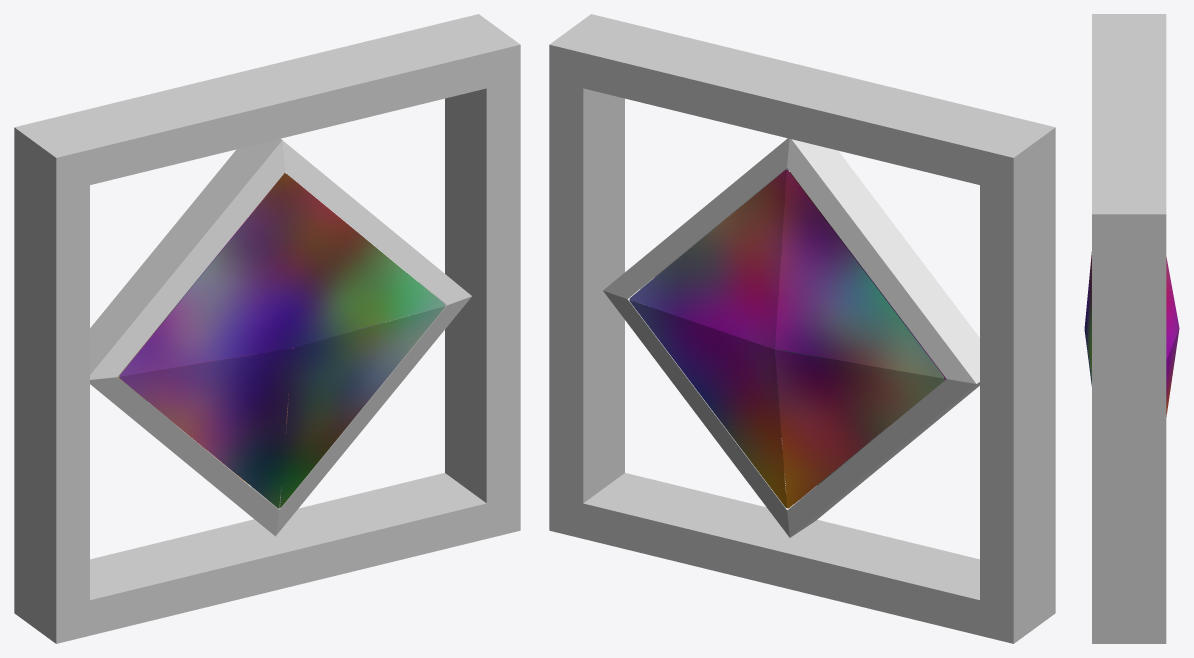
The model's file is exit_doors.fbx.
3 renders of one model, left to right at view 1: azimuth 30°, elevation 25°; view 2: azimuth 150°, elevation 25°; view 3: azimuth 270°, elevation 25°, orthographic. The views are drawn at different scales.
Visible parts, largest first — view 1: Door; view 2: Door; view 3: Door.
Part boxes in pixels (box(x1,y1,x2,y2)): Door: box(14, 14, 520, 643); Door: box(549, 14, 1055, 643); Door: box(1084, 14, 1179, 643).
Bounding box in the file's own units: 200 × 200 × 40.08.
